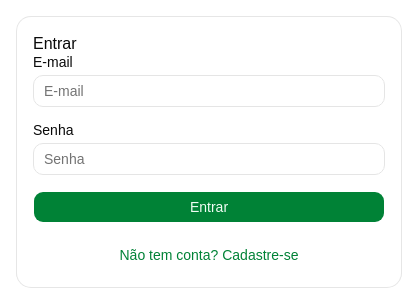
Test: LoginScreen › o título da aba acompanha o modo da tela
What coordinates should you click on to do the following:
click the button "Não tem conta? Cadastre-se"
I would click on:
 (209, 255)
Its box is [33,239,385,271].
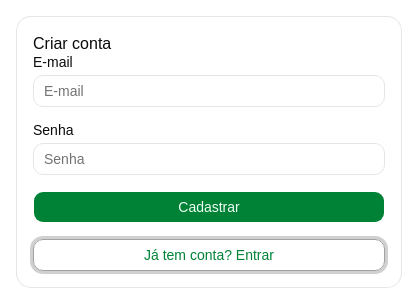
Expected: the text "Criar conta" is shown, [33,35,111,52]
